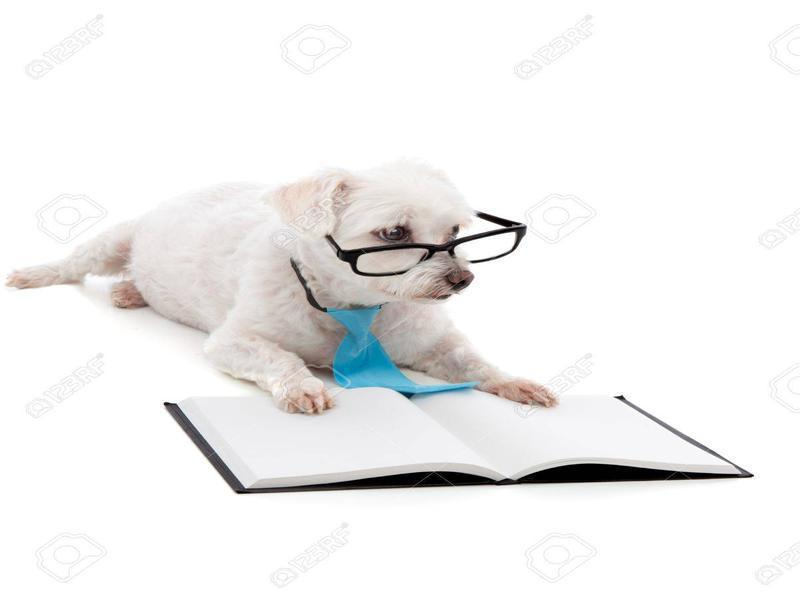dog_down: (3, 161, 559, 414)
